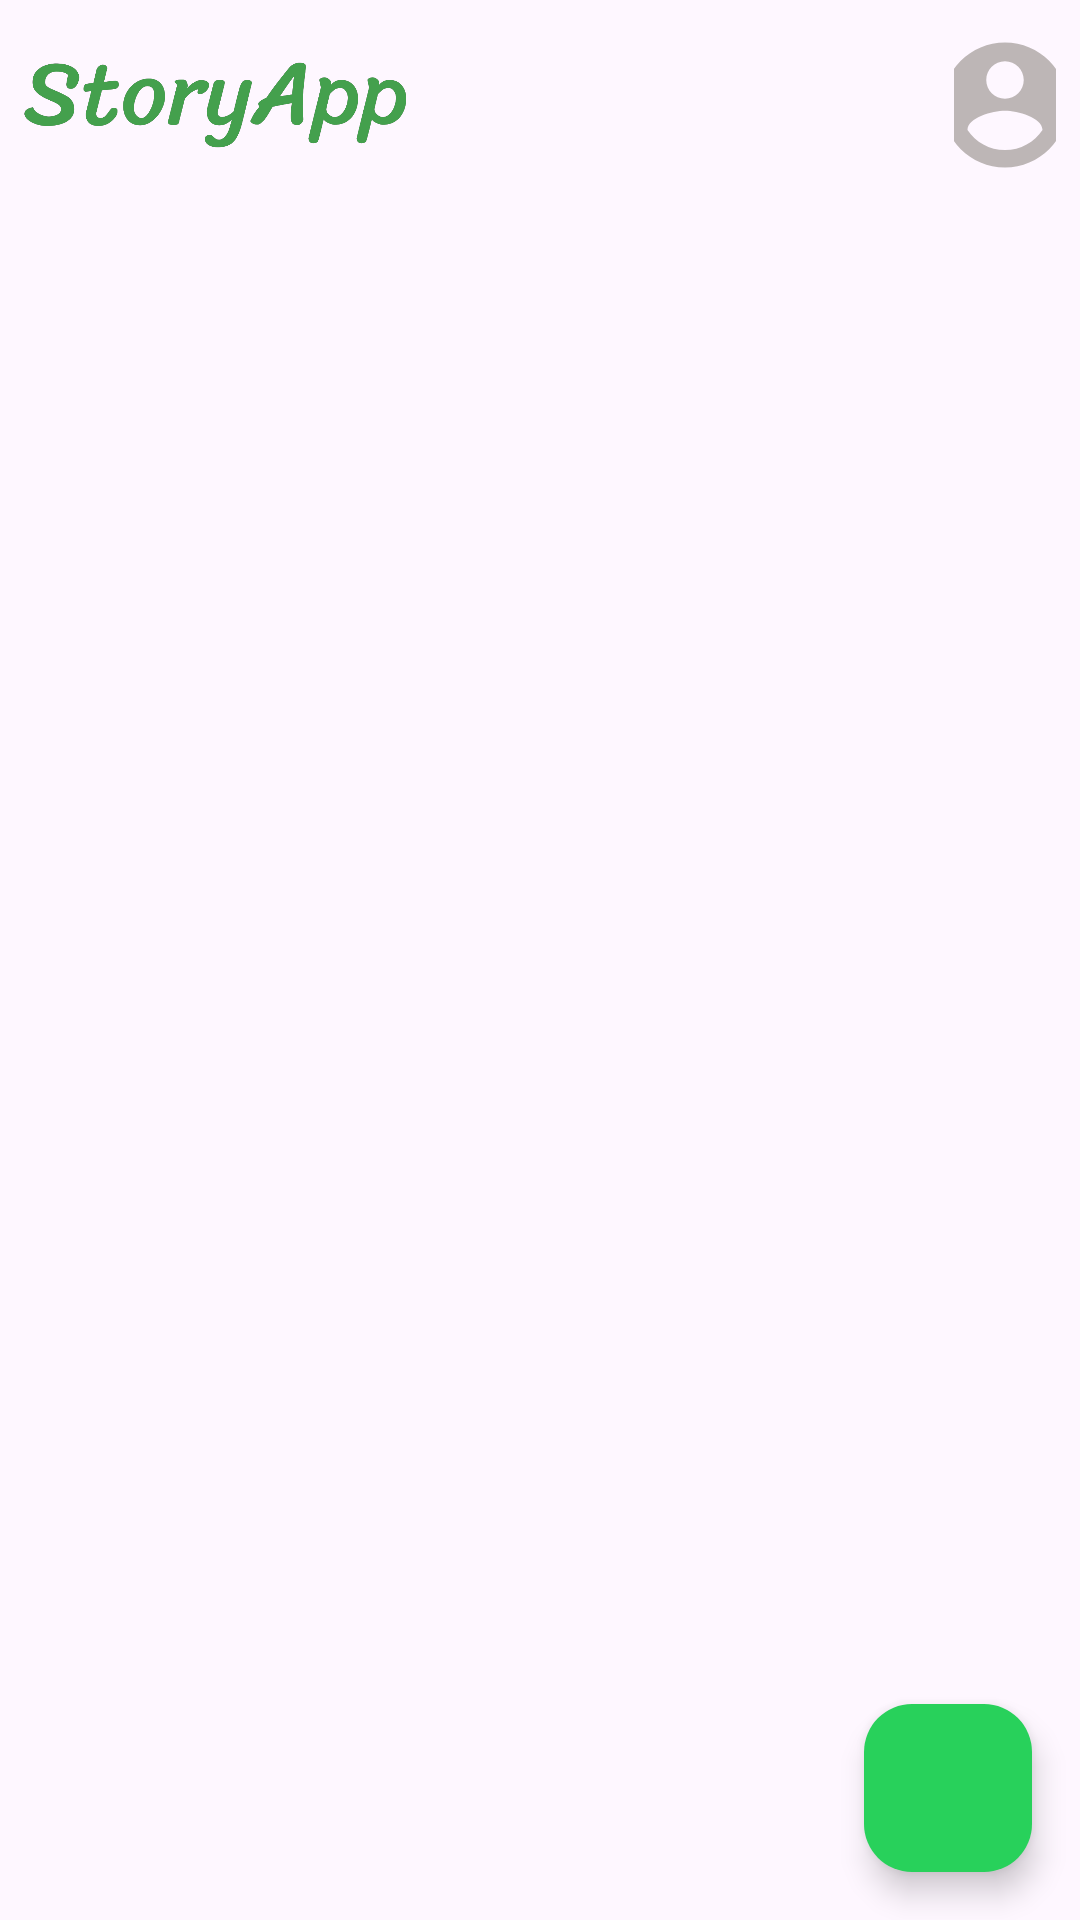

Named icons in this screenshot (1080 × 1920) and their centers, (x=x, y=y):
profile: (x=1005, y=105)
